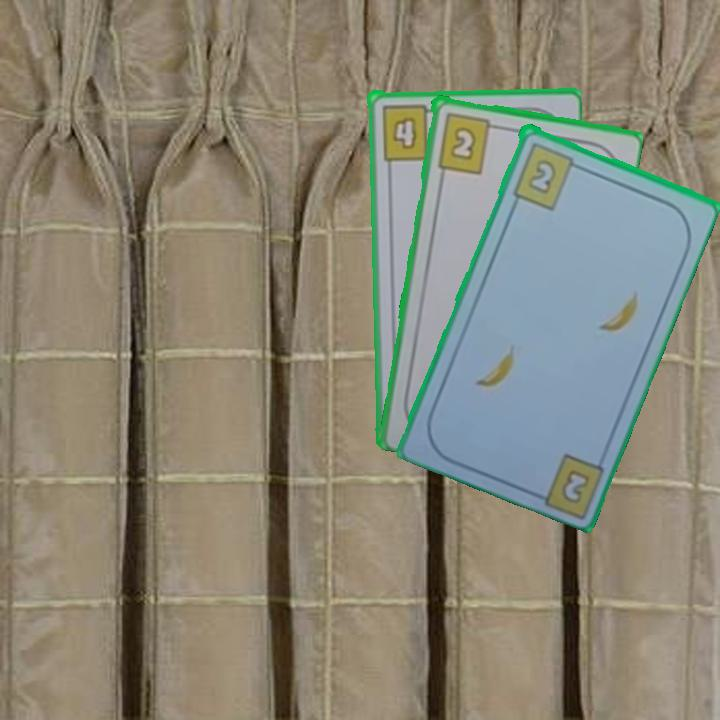2b: (509, 138, 585, 212), (433, 109, 502, 176), (557, 465, 593, 506)
4b: (378, 100, 440, 162)
